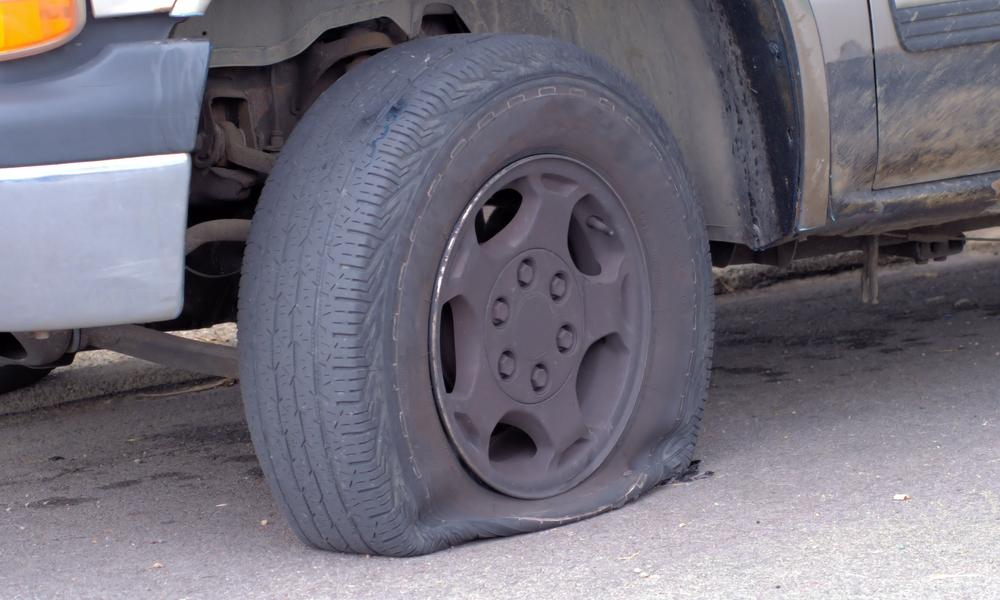tire flat: (235, 31, 714, 564)
